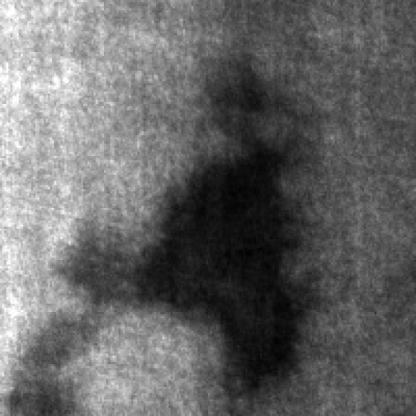patches: (148, 129, 297, 383), (25, 214, 133, 364)
